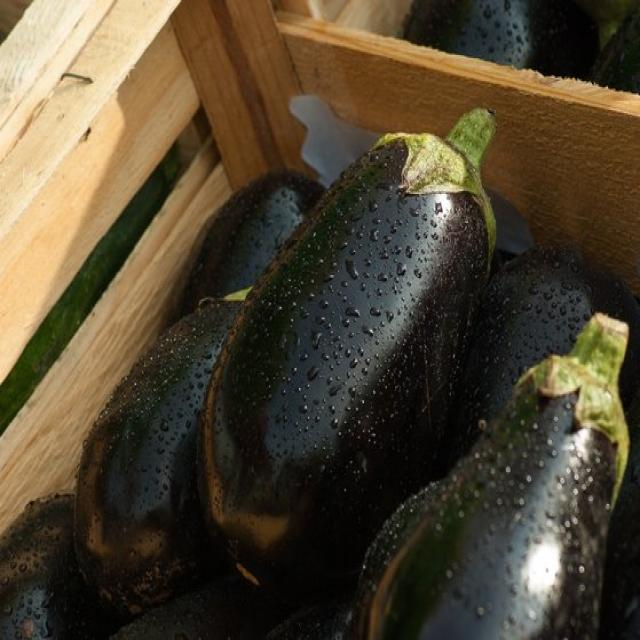eggplant: (210, 92, 528, 598)
